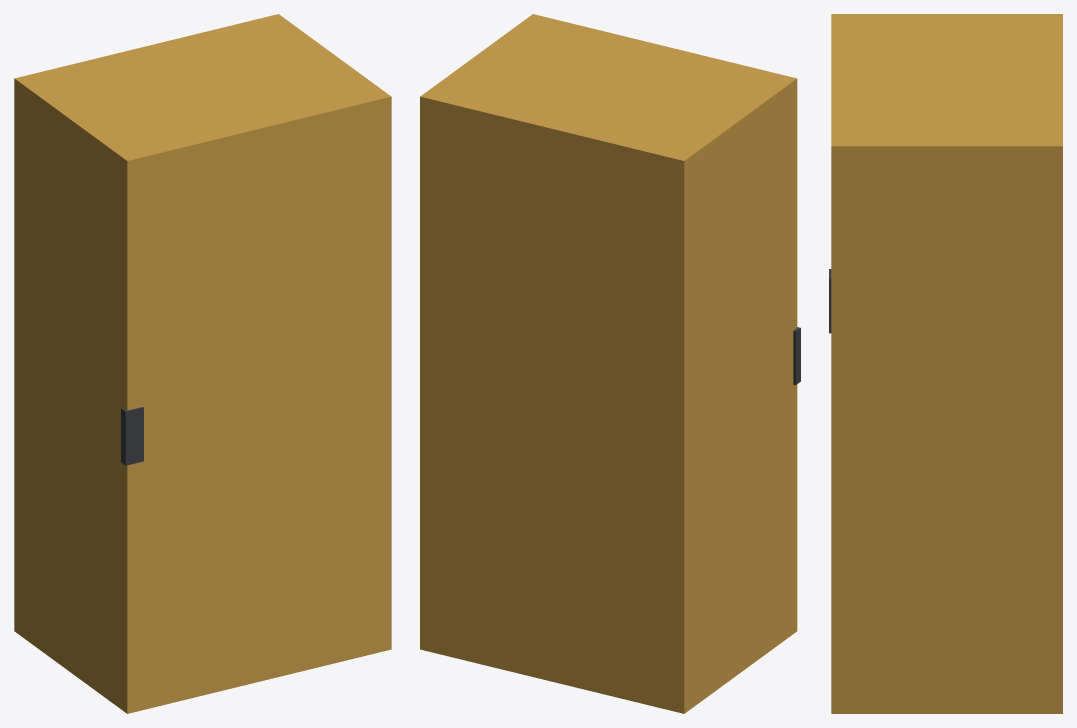
Rendered from dryingcabinetsmall_01_D.gltf.
3 views of the same model, side by side, from view 1: azimuth 30°, elevation 25°; view 2: azimuth 150°, elevation 25°; view 3: azimuth 270°, elevation 25° (orthographic). The views are drawn at different scales.
Visible parts, largest first — view 1: Doordryingcabinetsmall_01_D, dryingcabinetsmall_01_D; view 2: dryingcabinetsmall_01_D, Doordryingcabinetsmall_01_D; view 3: dryingcabinetsmall_01_D, Doordryingcabinetsmall_01_D.
Boxes of the visible parts, left/top/right/bottom form: Doordryingcabinetsmall_01_D: left=120, top=92, right=391, bottom=713; dryingcabinetsmall_01_D: left=14, top=14, right=384, bottom=708; dryingcabinetsmall_01_D: left=420, top=18, right=790, bottom=713; Doordryingcabinetsmall_01_D: left=527, top=14, right=800, bottom=635; dryingcabinetsmall_01_D: left=843, top=14, right=1062, bottom=713; Doordryingcabinetsmall_01_D: left=829, top=14, right=844, bottom=713.
Bounding box in the file's own units: 1.01 × 2 × 0.7471.
Materials: 1 (1 with a texture image).
